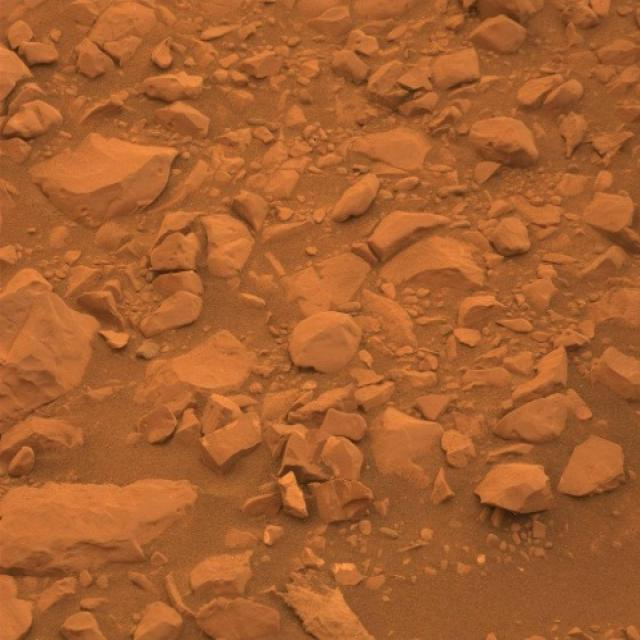rock: (1, 475, 198, 570), (32, 134, 185, 225), (288, 312, 364, 374), (475, 462, 555, 516), (470, 115, 541, 168)
